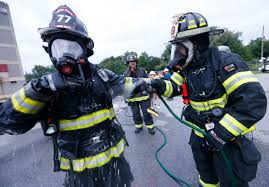emergent: (163, 13, 266, 187), (30, 6, 122, 187), (124, 55, 158, 133)
